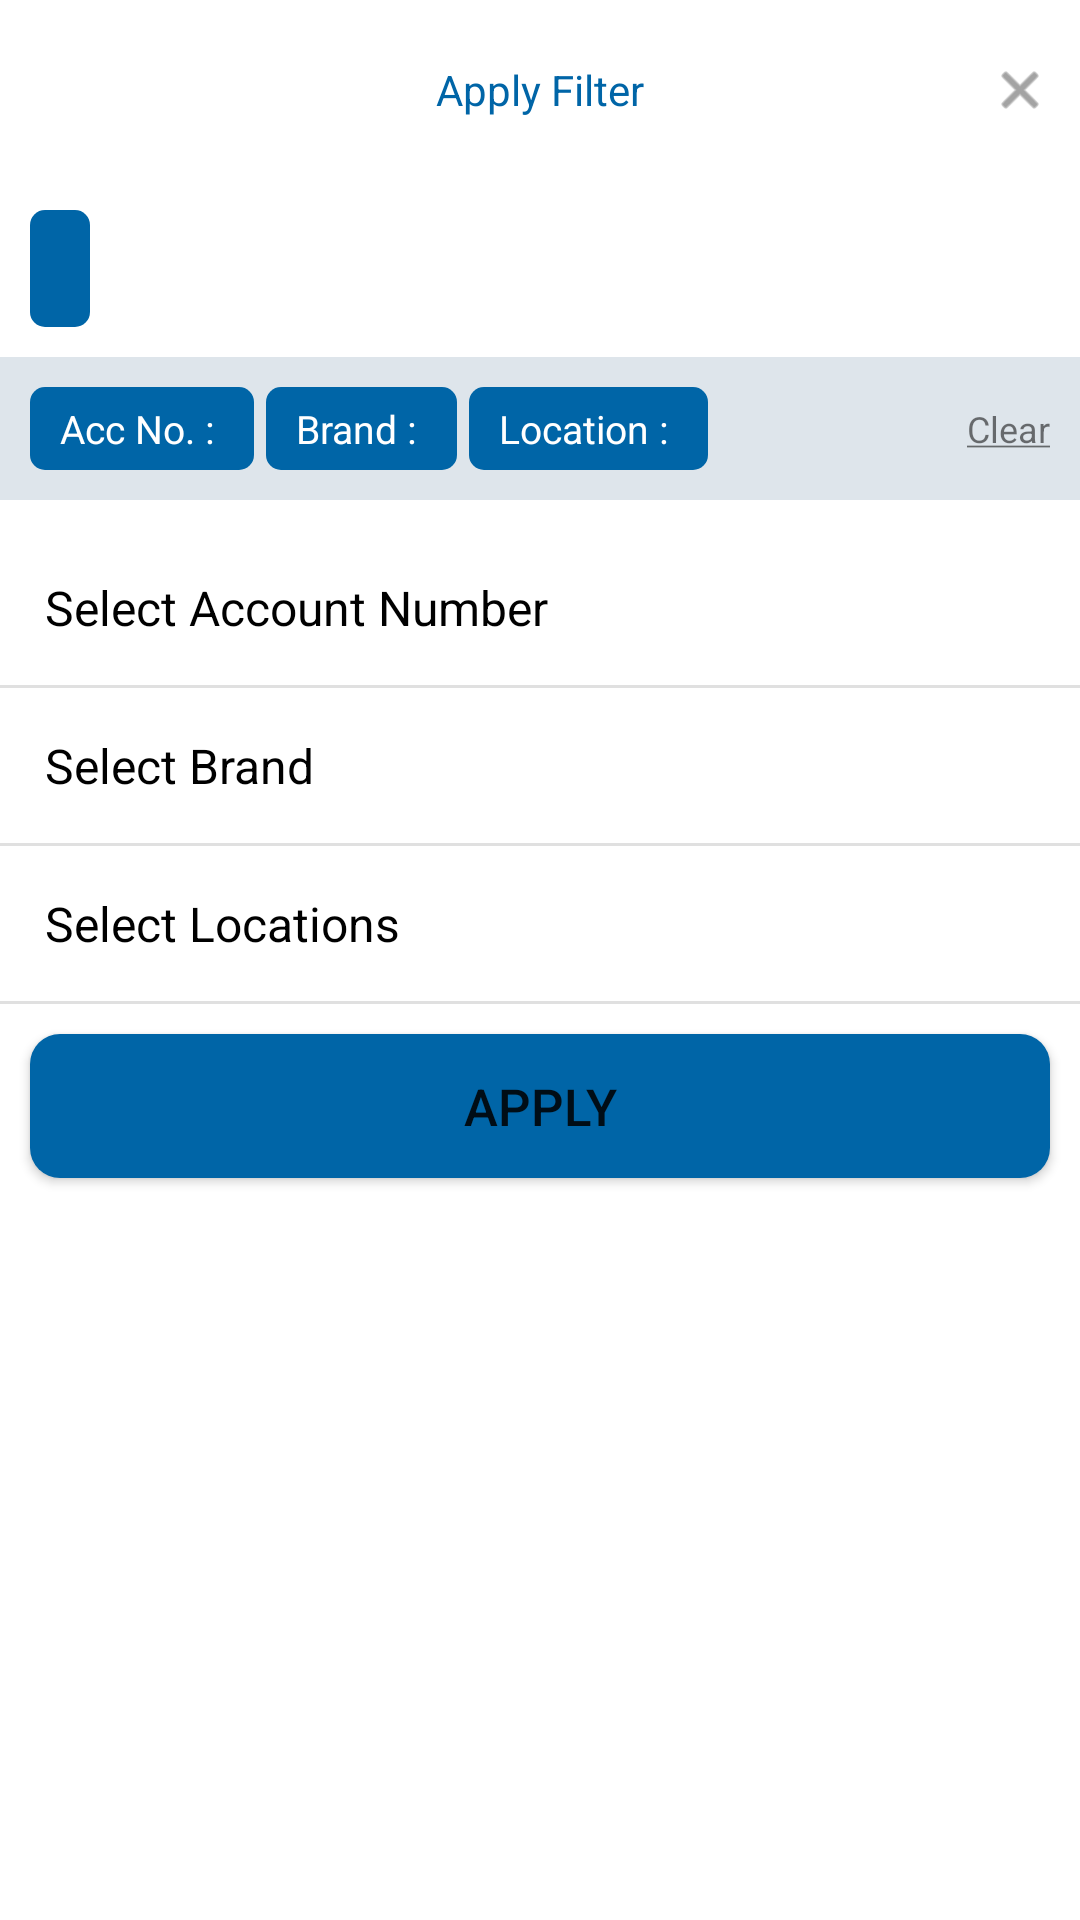

Icon bounding boxes for this 1080px×1920px phone screenshot, format (x1, y1, x2, y2):
close clear cancel: (1001, 71, 1039, 109)
